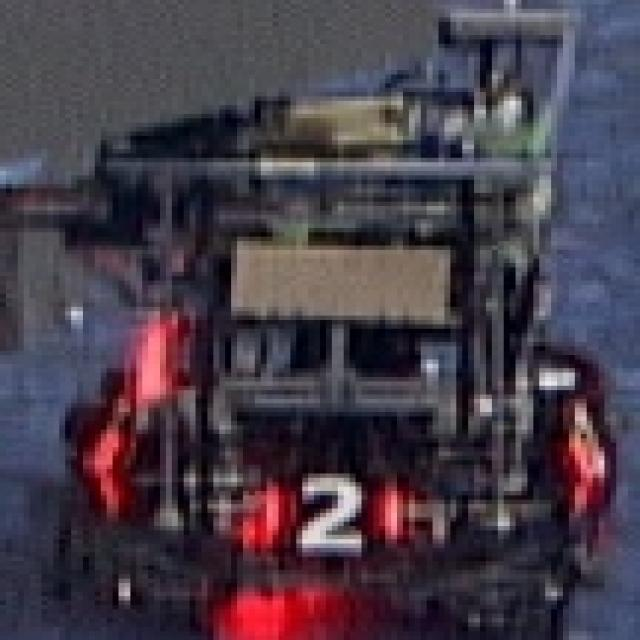R2: (261, 465, 397, 552)
